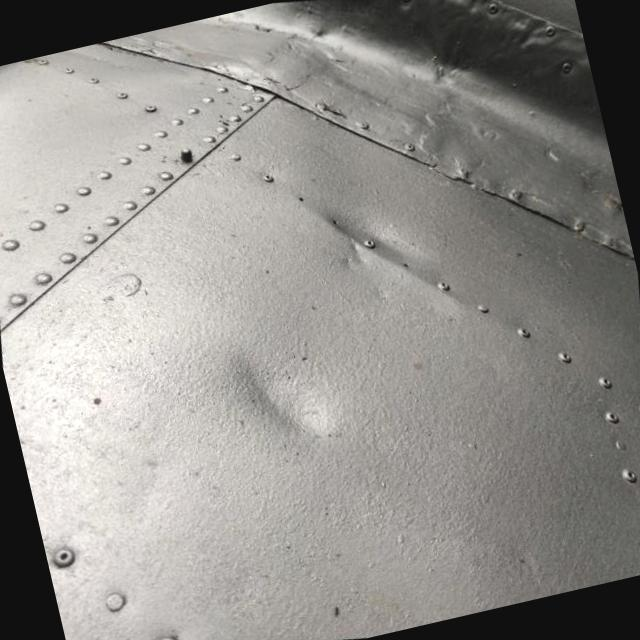dent: (219, 316, 348, 469)
